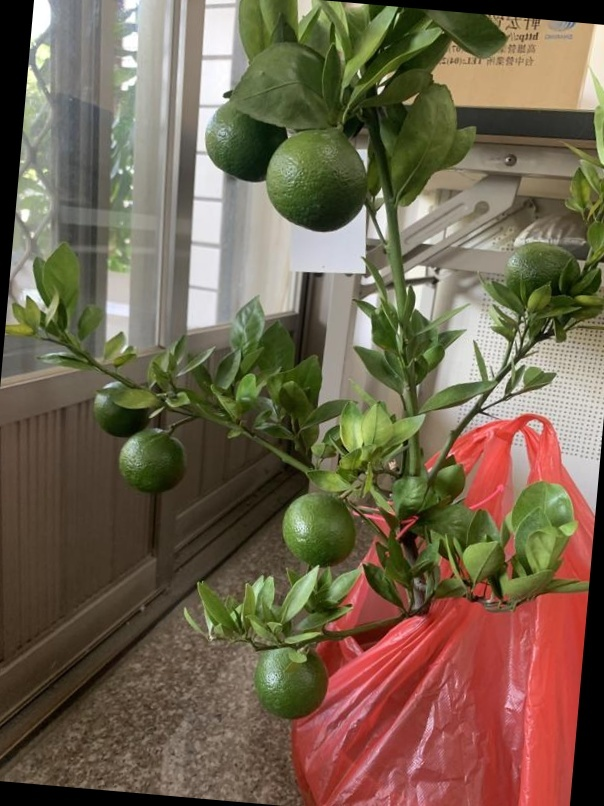Tangerine: (269, 131, 368, 234), (201, 95, 289, 184), (242, 642, 329, 720), (284, 484, 357, 564), (119, 429, 188, 498), (506, 235, 580, 298)
